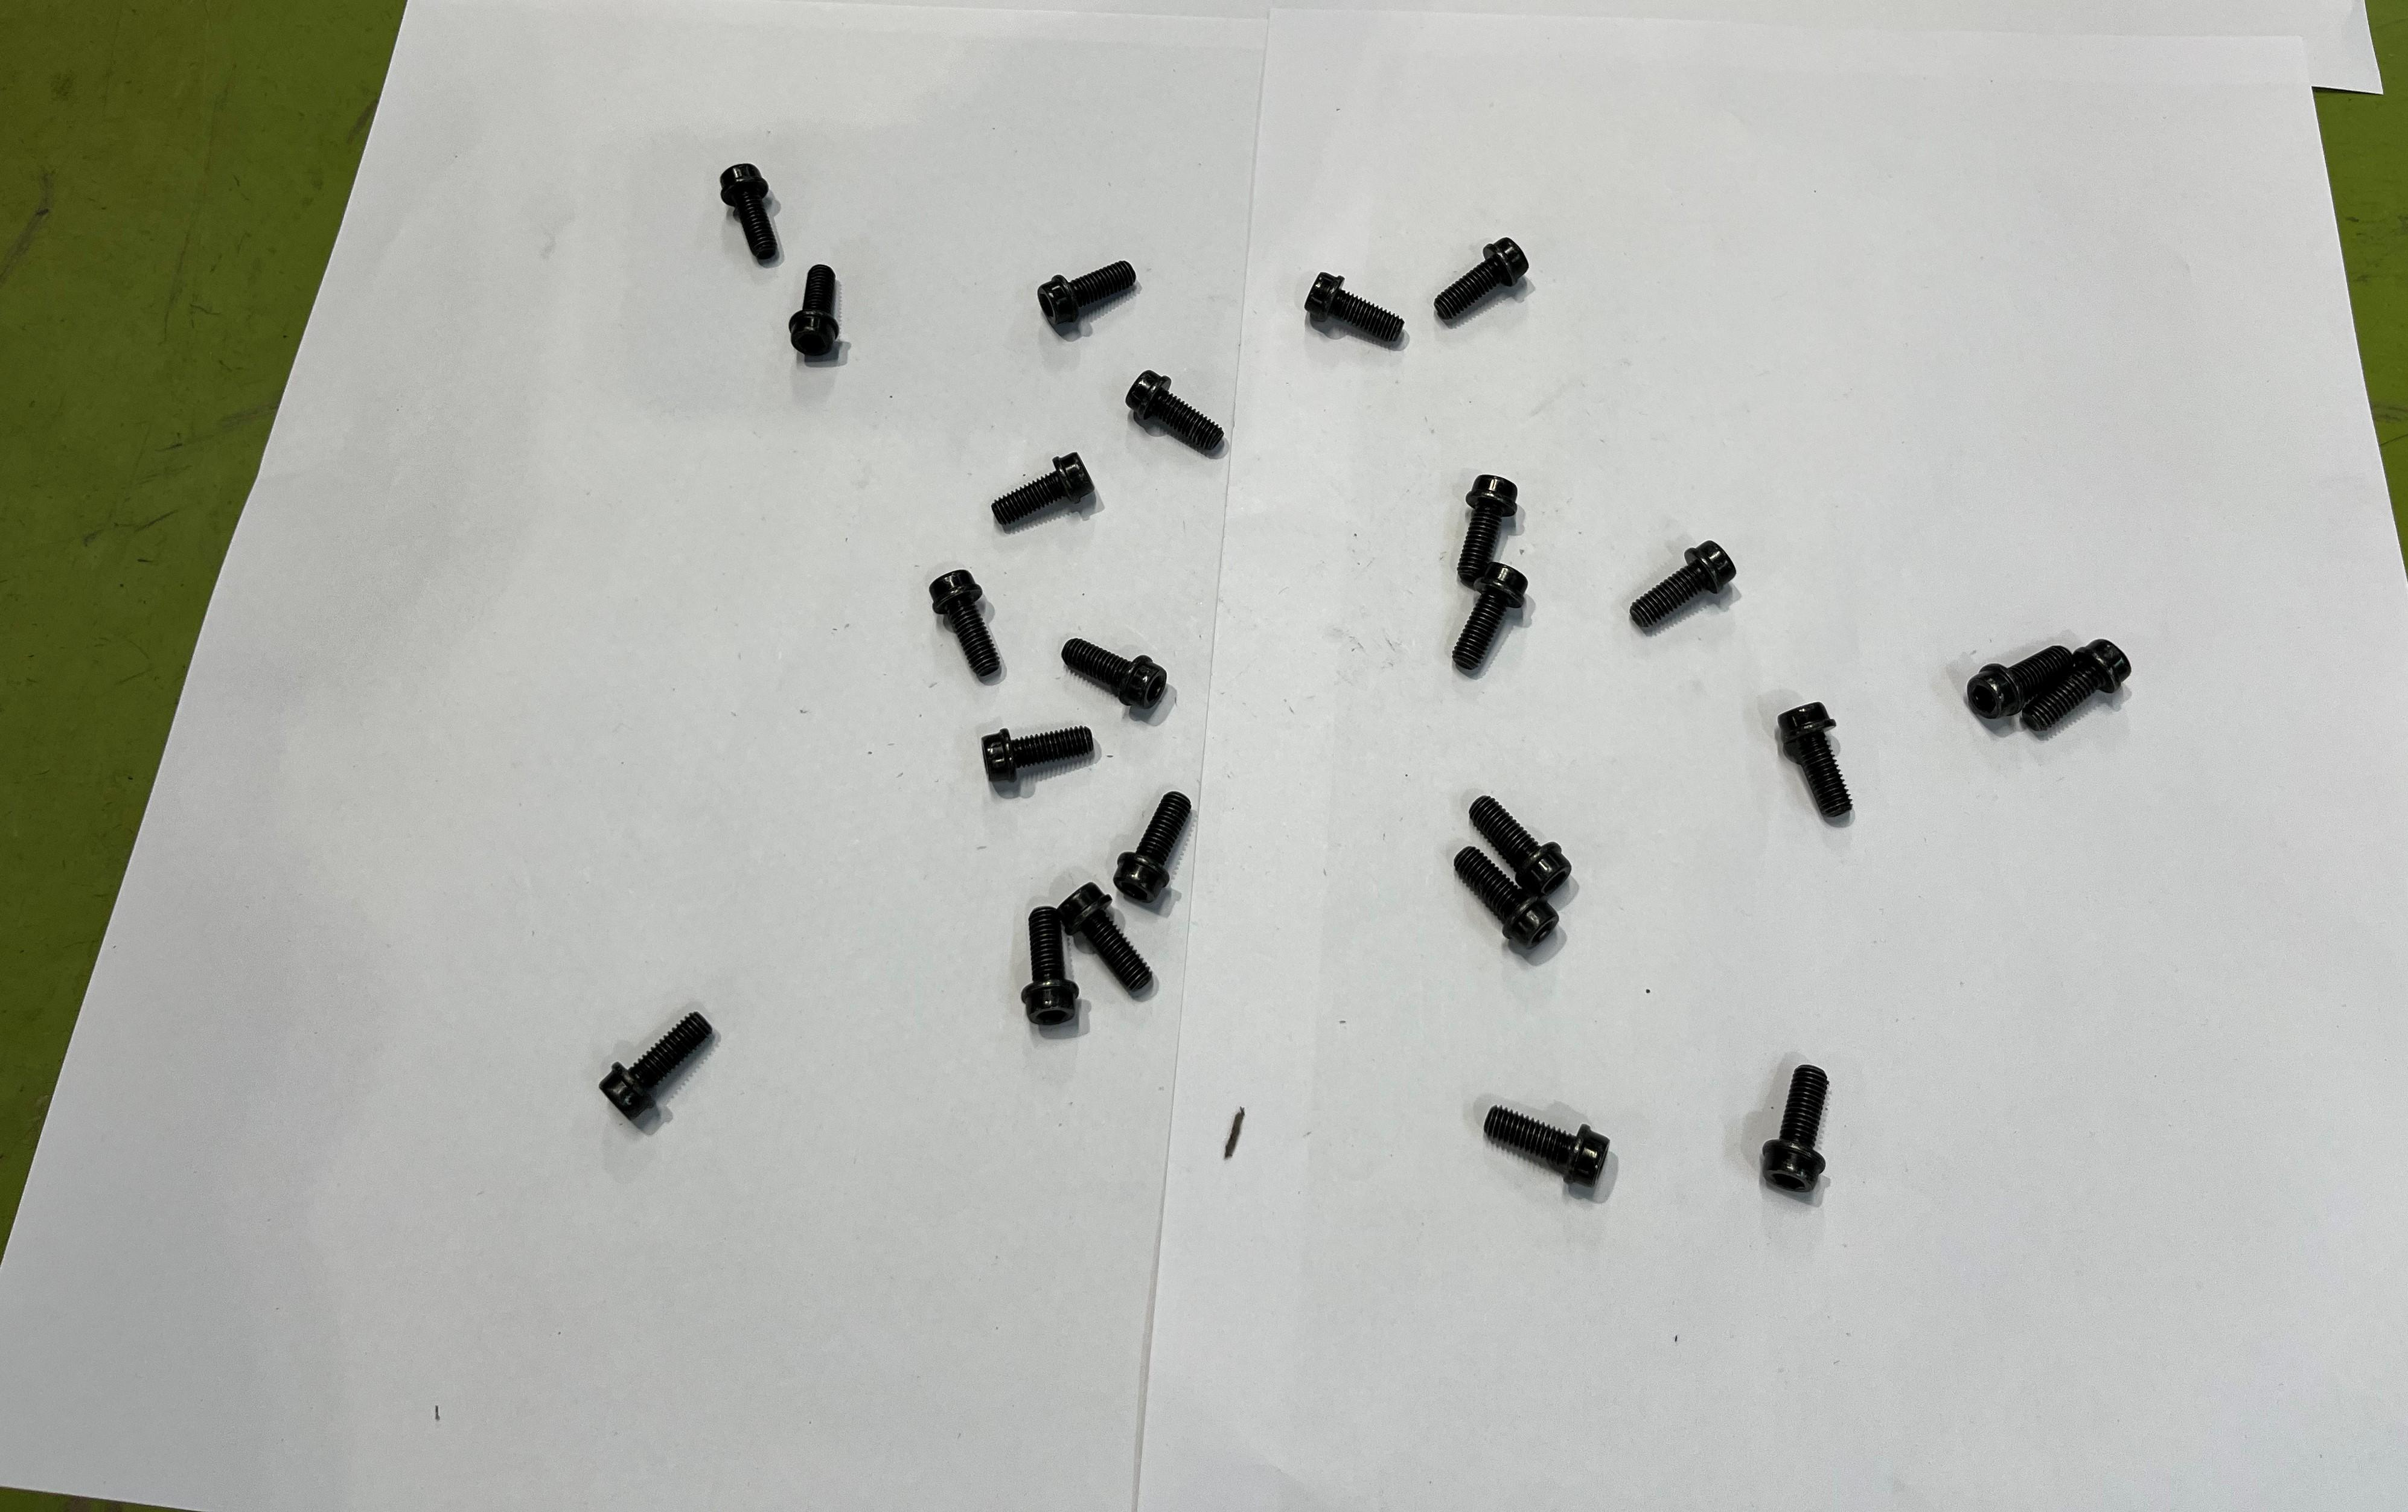Type C: (601, 998, 728, 1146), (1454, 847, 1560, 953), (1470, 794, 1574, 901), (1485, 1106, 1611, 1193), (2018, 639, 2133, 733), (1062, 880, 1153, 996), (707, 160, 806, 265), (928, 570, 1019, 678), (1062, 629, 1170, 716), (1628, 543, 1736, 627), (1302, 272, 1405, 359), (1778, 704, 1853, 820), (1966, 646, 2079, 723), (1127, 371, 1224, 460), (1113, 794, 1194, 899), (1433, 237, 1530, 324), (1762, 1066, 1826, 1197), (1454, 563, 1527, 676), (1019, 906, 1085, 1029), (994, 453, 1093, 533), (980, 721, 1093, 786), (1036, 260, 1137, 326), (1457, 474, 1517, 582), (789, 263, 841, 362)
